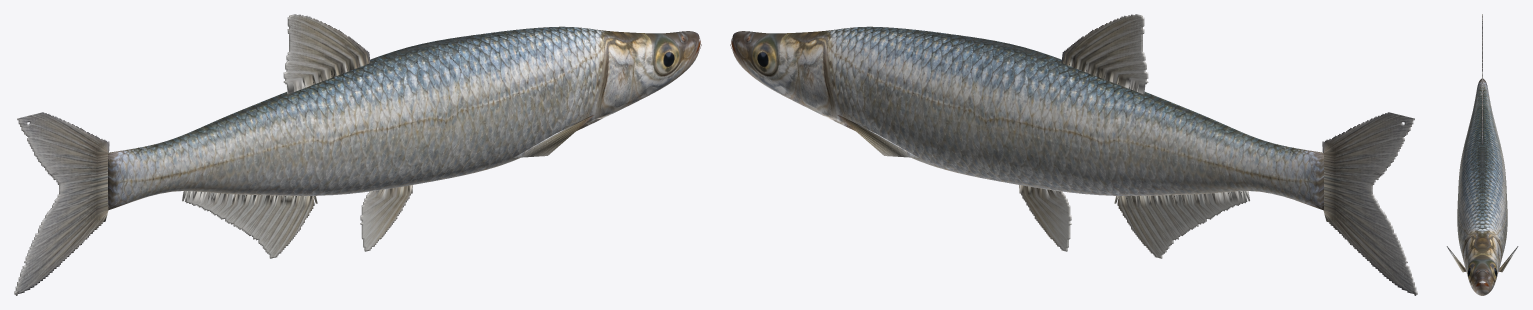
The model's file is bleak.glb.
The picture shows the model from 3 angles, left to right: view 1: azimuth 30°, elevation 25°; view 2: azimuth 150°, elevation 25°; view 3: azimuth 270°, elevation 25°; orthographic projection. The views are drawn at different scales.
Visible parts, largest first — view 1: bleak_realistic.003; view 2: bleak_realistic.003; view 3: bleak_realistic.003.
Part boxes in pixels (box(x1,y1,x2,y2)): bleak_realistic.003: box(14, 14, 701, 295); bleak_realistic.003: box(730, 14, 1417, 295); bleak_realistic.003: box(1446, 14, 1518, 295).
Bounding box in the file's own units: 1 × 0.3541 × 0.1424.
Materials: 3 (3 with a texture image).
